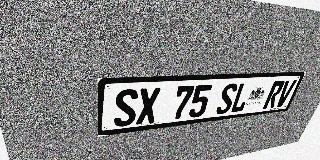5: (188, 85, 213, 118)
7: (170, 85, 195, 120)
L: (229, 82, 253, 113)
R: (262, 81, 286, 109)
S: (114, 89, 138, 128), (215, 83, 239, 115)
V: (274, 80, 297, 107)
X: (136, 87, 161, 125)
